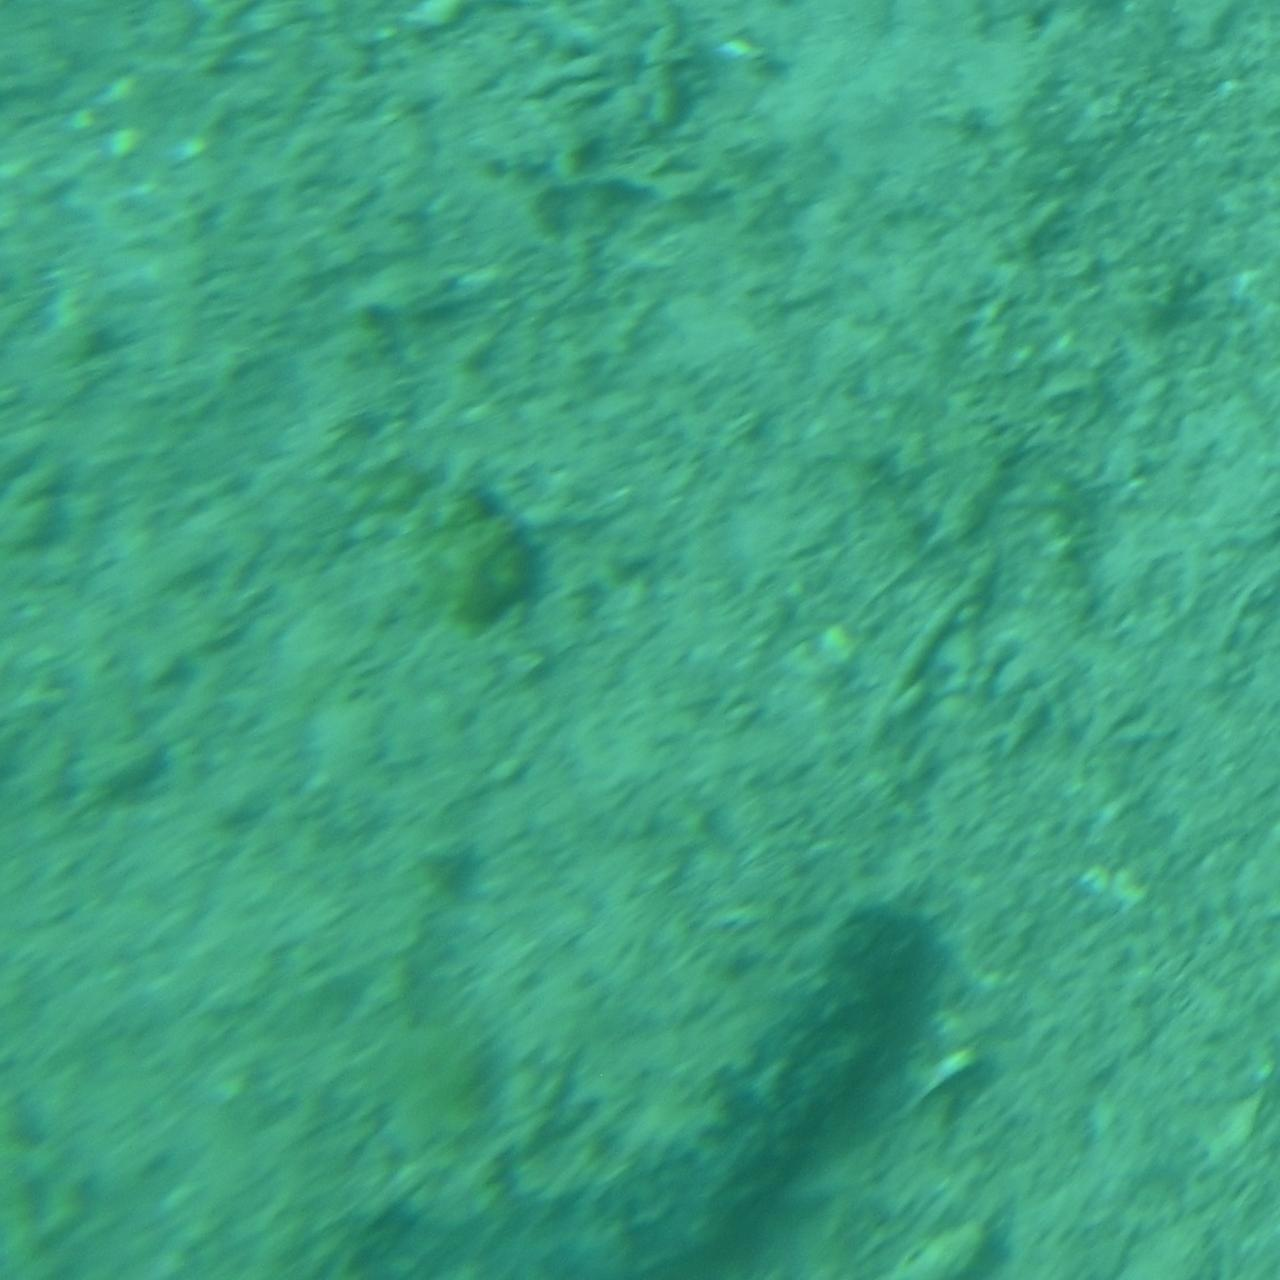Holothuria tubulosa: (300, 885, 980, 1276)
